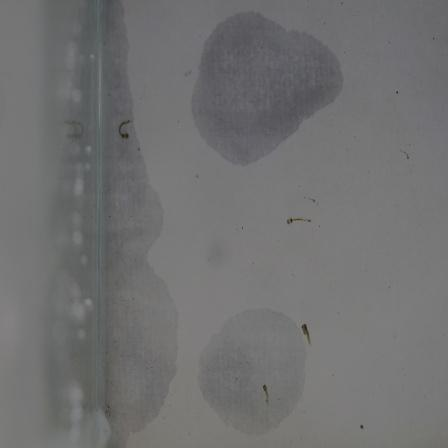Jentik-Nyamuk: (279, 209, 318, 231), (113, 116, 139, 143), (258, 379, 277, 409), (296, 319, 317, 345)
